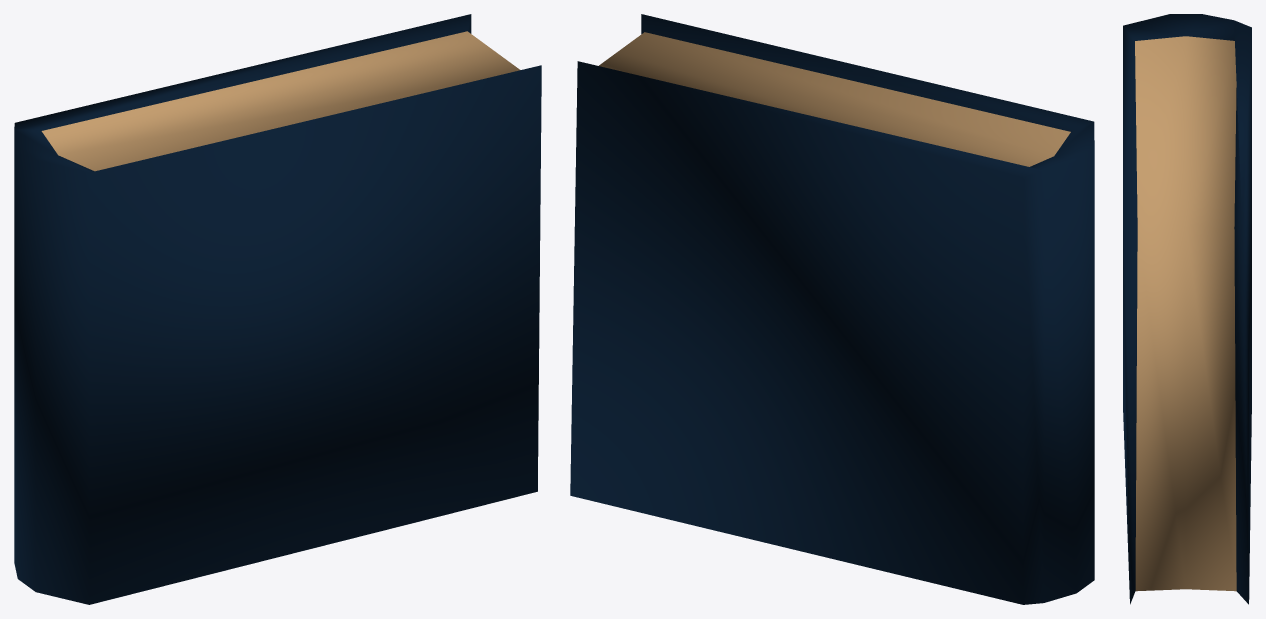
The model's file is book010.fbx.
3 views of the same model, side by side, from view 1: azimuth 30°, elevation 25°; view 2: azimuth 150°, elevation 25°; view 3: azimuth 270°, elevation 25° (orthographic). The views are drawn at different scales.
Visible parts, largest first — view 1: Book Variation 010; view 2: Book Variation 010; view 3: Book Variation 010.
Boxes of the visible parts, x1=… form: Book Variation 010: x1=14, y1=14, x2=541, y2=604; Book Variation 010: x1=570, y1=14, x2=1094, y2=604; Book Variation 010: x1=1123, y1=14, x2=1251, y2=604.
Bounding box in the file's own units: 0.4183 × 0.3604 × 0.1098.
